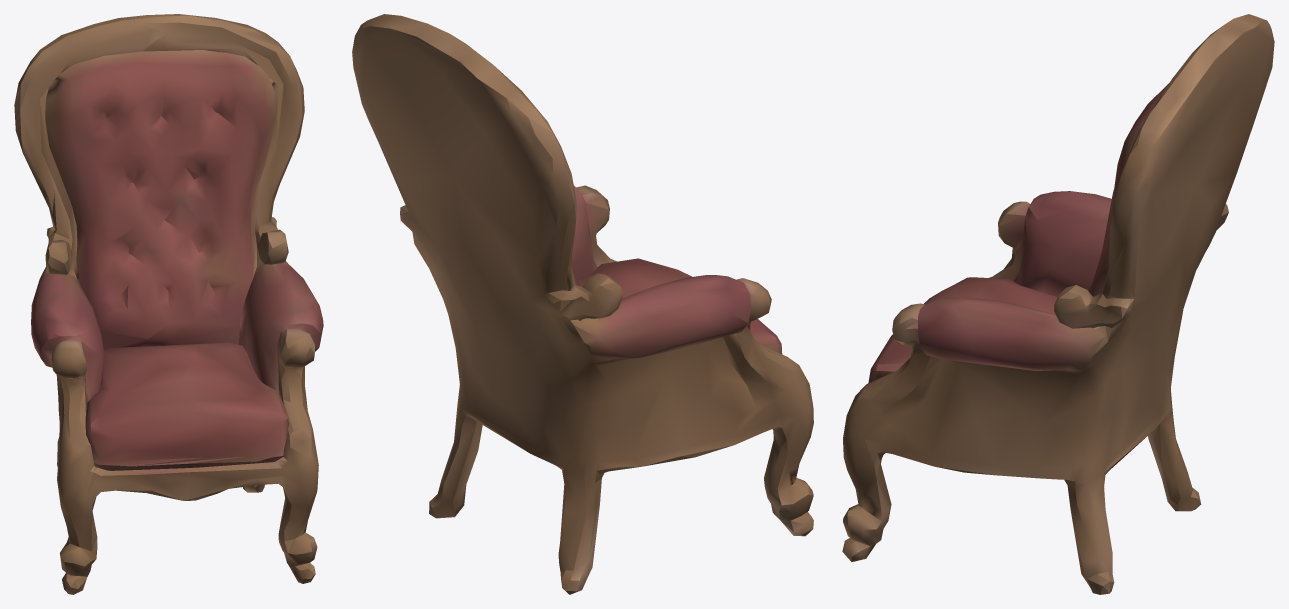
The model's file is Chair01.fbx.
3 views of the same model, side by side, from view 1: azimuth 30°, elevation 25°; view 2: azimuth 150°, elevation 25°; view 3: azimuth 270°, elevation 25° (orthographic). The views are drawn at different scales.
Visible parts, largest first — view 1: Chair; view 2: Chair; view 3: Chair.
Part boxes in pixels (x1,y1,x2,y2): Chair: [14, 14, 323, 594]; Chair: [352, 14, 813, 594]; Chair: [842, 14, 1274, 594].
Size of the model in its own units: 106 by 147 by 110.
